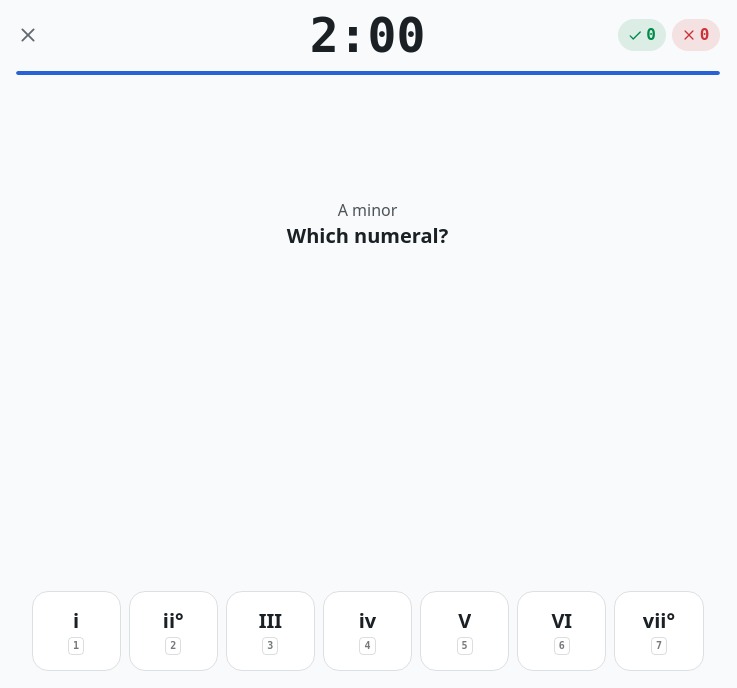
Chords RunPhase, Roman numerals › names the numeral picked on a miss, in the minor key's numerals
Check: the text "A minor" is shown, box [338,198,397,222]
Click the button "VI 6" at [562, 631], box [517,591,606,671]
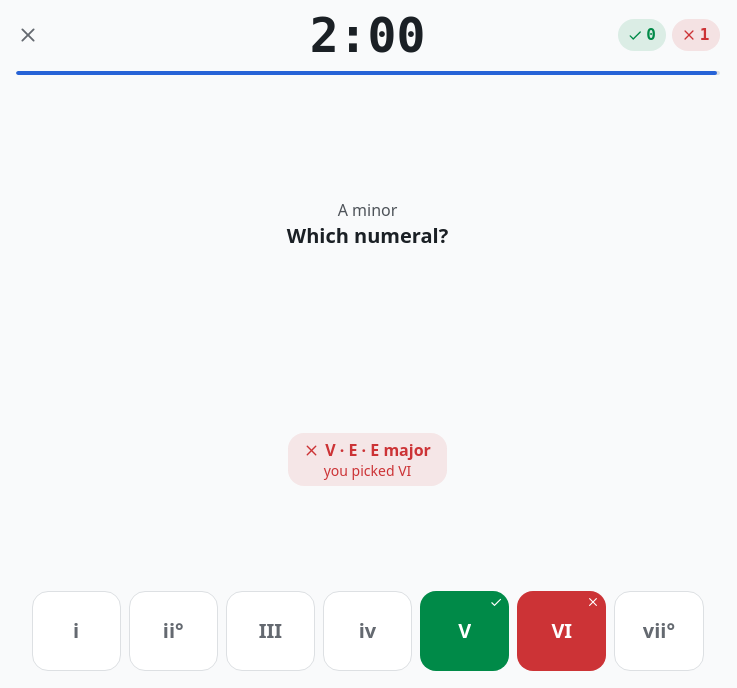
Check: the message shows "V · E · E major", box [325,439,431,461]
Check: the message shows "you picked VI", box [324,461,411,480]
